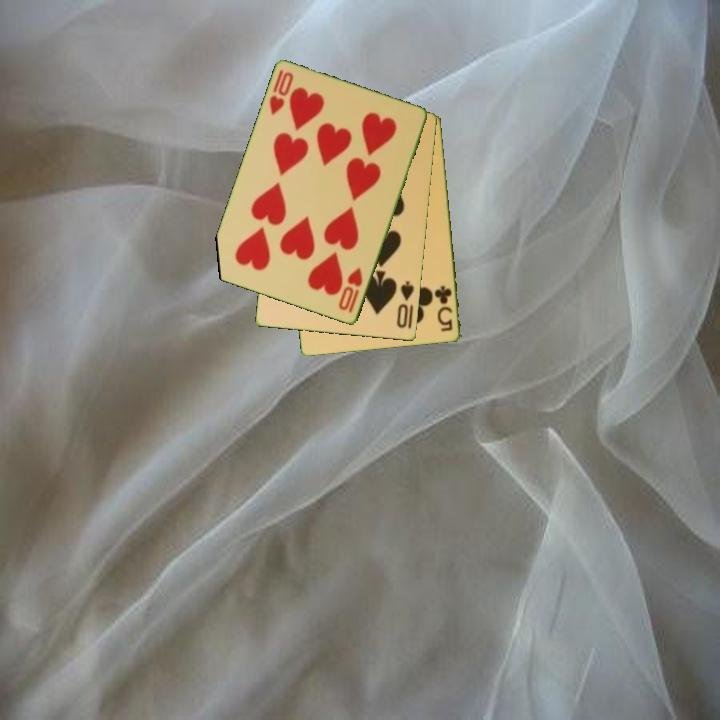10h: (335, 264, 366, 316), (266, 66, 296, 118)
10s: (393, 278, 417, 331)
5c: (431, 283, 456, 335)
